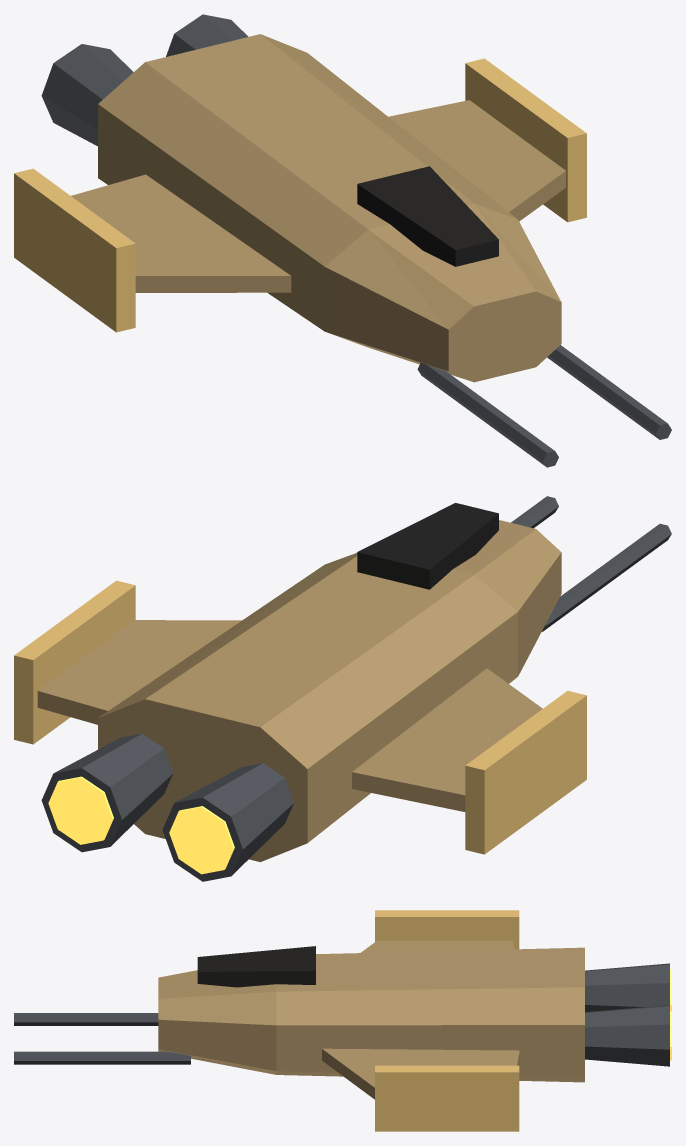
Rendered from foundry_fighter.glb.
The picture shows the model from 3 angles, top to bottom: view 1: azimuth 30°, elevation 25°; view 2: azimuth 150°, elevation 25°; view 3: azimuth 270°, elevation 25°; orthographic projection. The views are drawn at different scales.
Parts seen in each view (by area): view 1: fighter; view 2: fighter; view 3: fighter.
Boxes of the visible parts, left/top/right/bottom form: fighter: left=14, top=14, right=671, bottom=467; fighter: left=14, top=496, right=671, bottom=881; fighter: left=14, top=910, right=671, bottom=1131.
Bounding box in the file's own units: 5.84 × 1.75 × 10.03.
